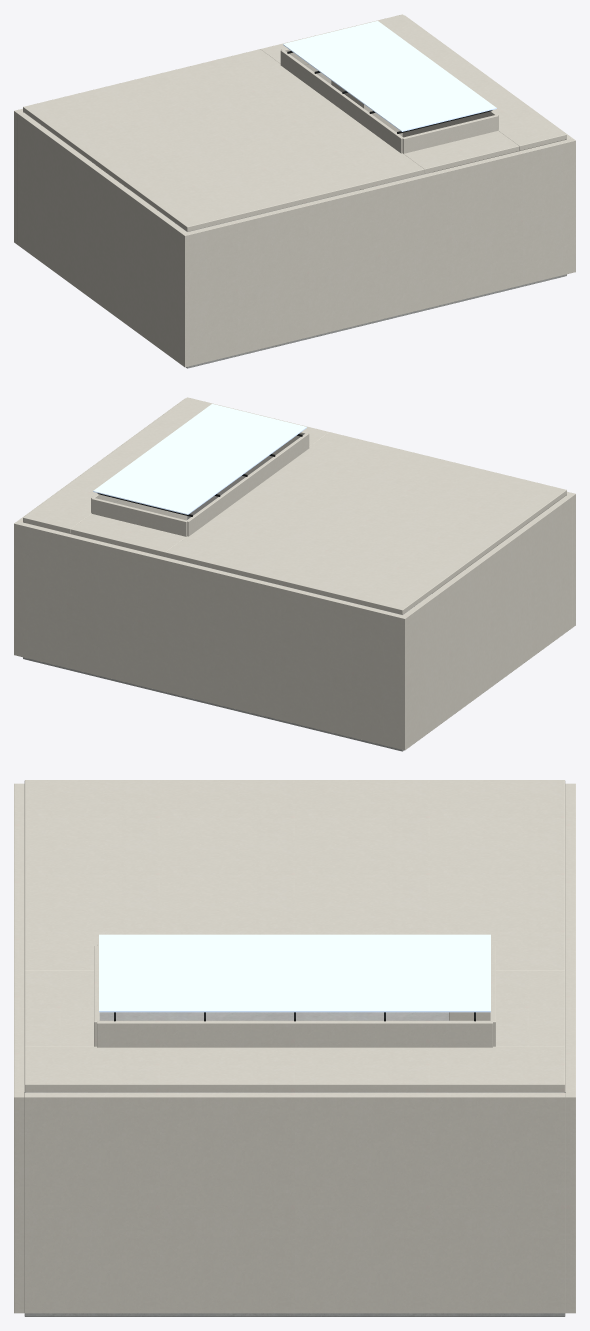
Rendered from white-cube-mobile.glb.
3 renders of one model, top to bottom at view 1: azimuth 30°, elevation 25°; view 2: azimuth 150°, elevation 25°; view 3: azimuth 270°, elevation 25°, orthographic. The views are drawn at different scales.
Parts seen in each view (by area): view 1: SHELL_south, OVERHEAD_Ceiling finish, SHELL_west, OVERHEAD_Rooflight diffuse sky, OVERHEAD_Mineral plaster, SHELL_Floor, SHELL_north, SHELL_east; view 2: SHELL_north, OVERHEAD_Ceiling finish, SHELL_west, OVERHEAD_Rooflight diffuse sky, OVERHEAD_Mineral plaster, SHELL_Floor, SHELL_south, SHELL_east; view 3: OVERHEAD_Ceiling finish, SHELL_east, OVERHEAD_Rooflight diffuse sky, OVERHEAD_Mineral plaster, SHELL_north, SHELL_south, SHELL_Floor.
Boxes of the visible parts, <box> form: SHELL_south: <box>181,138,575,367</box>; OVERHEAD_Ceiling finish: <box>23,14,566,231</box>; SHELL_west: <box>17,112,186,364</box>; OVERHEAD_Rooflight diffuse sky: <box>283,21,496,131</box>; OVERHEAD_Mineral plaster: <box>280,48,498,153</box>; SHELL_Floor: <box>159,172,566,368</box>; SHELL_north: <box>14,15,407,244</box>; SHELL_east: <box>402,18,572,172</box>; SHELL_north: <box>14,521,408,750</box>; OVERHEAD_Ceiling finish: <box>23,397,566,614</box>; SHELL_west: <box>403,495,572,747</box>; OVERHEAD_Rooflight diffuse sky: <box>93,404,306,514</box>; OVERHEAD_Mineral plaster: <box>91,431,309,536</box>; SHELL_Floor: <box>23,555,430,751</box>; SHELL_south: <box>182,398,575,627</box>; SHELL_east: <box>17,401,187,555</box>; OVERHEAD_Ceiling finish: <box>24,780,565,1092</box>; SHELL_east: <box>24,1092,565,1313</box>; OVERHEAD_Rooflight diffuse sky: <box>99,934,490,1012</box>; OVERHEAD_Mineral plaster: <box>94,944,495,1047</box>; SHELL_north: <box>565,783,575,1313</box>; SHELL_south: <box>14,783,24,1313</box>; SHELL_Floor: <box>24,1012,565,1316</box>.
Size of what is drawn, in the model's own units: 16.48 by 6.57 by 12.48.
Materials: 7 (3 with a texture image).
